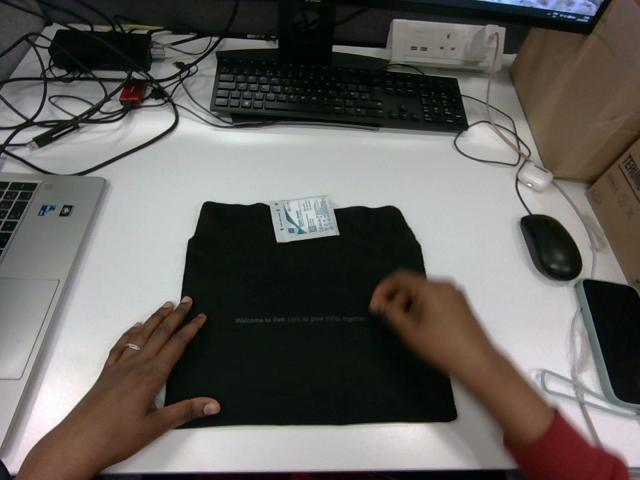gauze: (270, 195, 339, 242)
